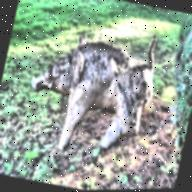boar: (17, 9, 165, 169)
